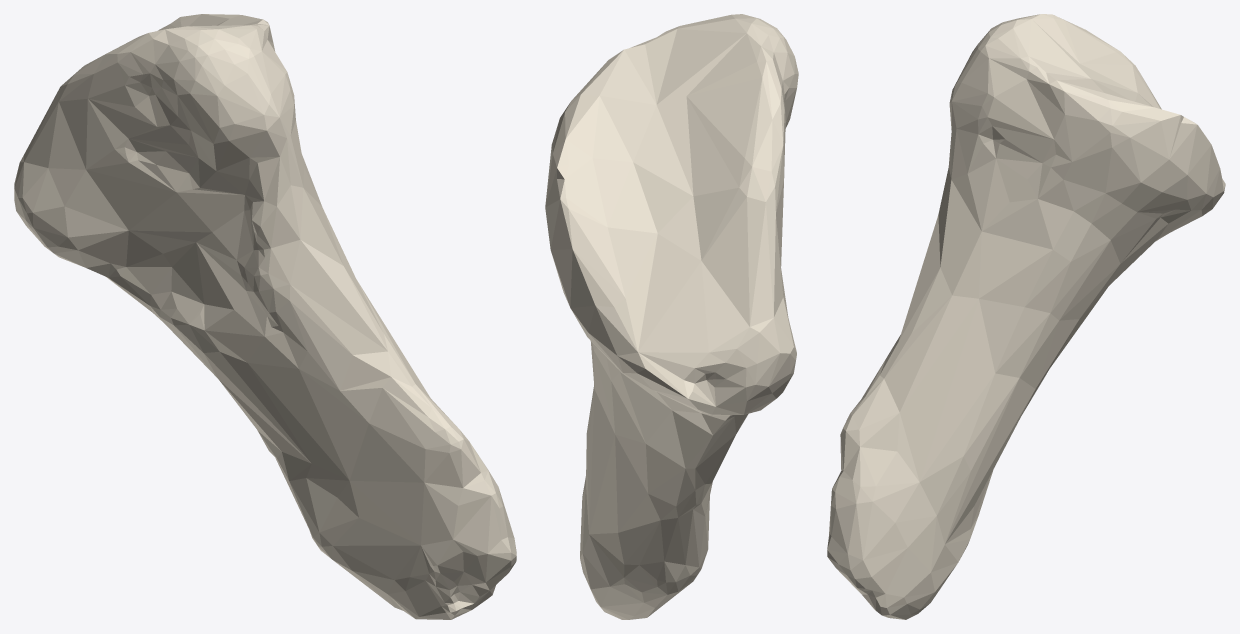
Rendered from left_thumb_distal_phalanx.glb.
The picture shows the model from 3 angles, left to right: view 1: azimuth 30°, elevation 25°; view 2: azimuth 150°, elevation 25°; view 3: azimuth 270°, elevation 25°; orthographic projection. The views are drawn at different scales.
Visible parts, largest first — view 1: left_thumb_distal_phalanx; view 2: left_thumb_distal_phalanx; view 3: left_thumb_distal_phalanx.
Part boxes in pixels (x1,y1,x2,y2): left_thumb_distal_phalanx: [14, 14, 516, 619]; left_thumb_distal_phalanx: [545, 14, 798, 619]; left_thumb_distal_phalanx: [827, 14, 1225, 619].
Size of the model in its own units: 0.0138 by 0.0232 by 0.0161.
